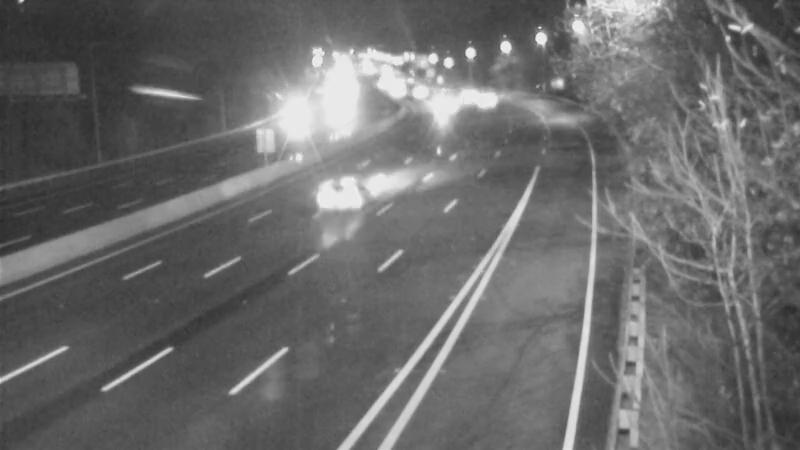vehicle: (295, 156, 375, 236), (439, 69, 489, 119), (458, 75, 508, 125), (416, 82, 466, 132), (271, 92, 321, 142)
